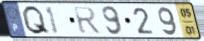1: (44, 5, 60, 36)
2: (132, 6, 156, 36)
9: (101, 5, 125, 37), (157, 6, 179, 37)
Q: (21, 4, 53, 36)
R: (71, 6, 102, 35)
